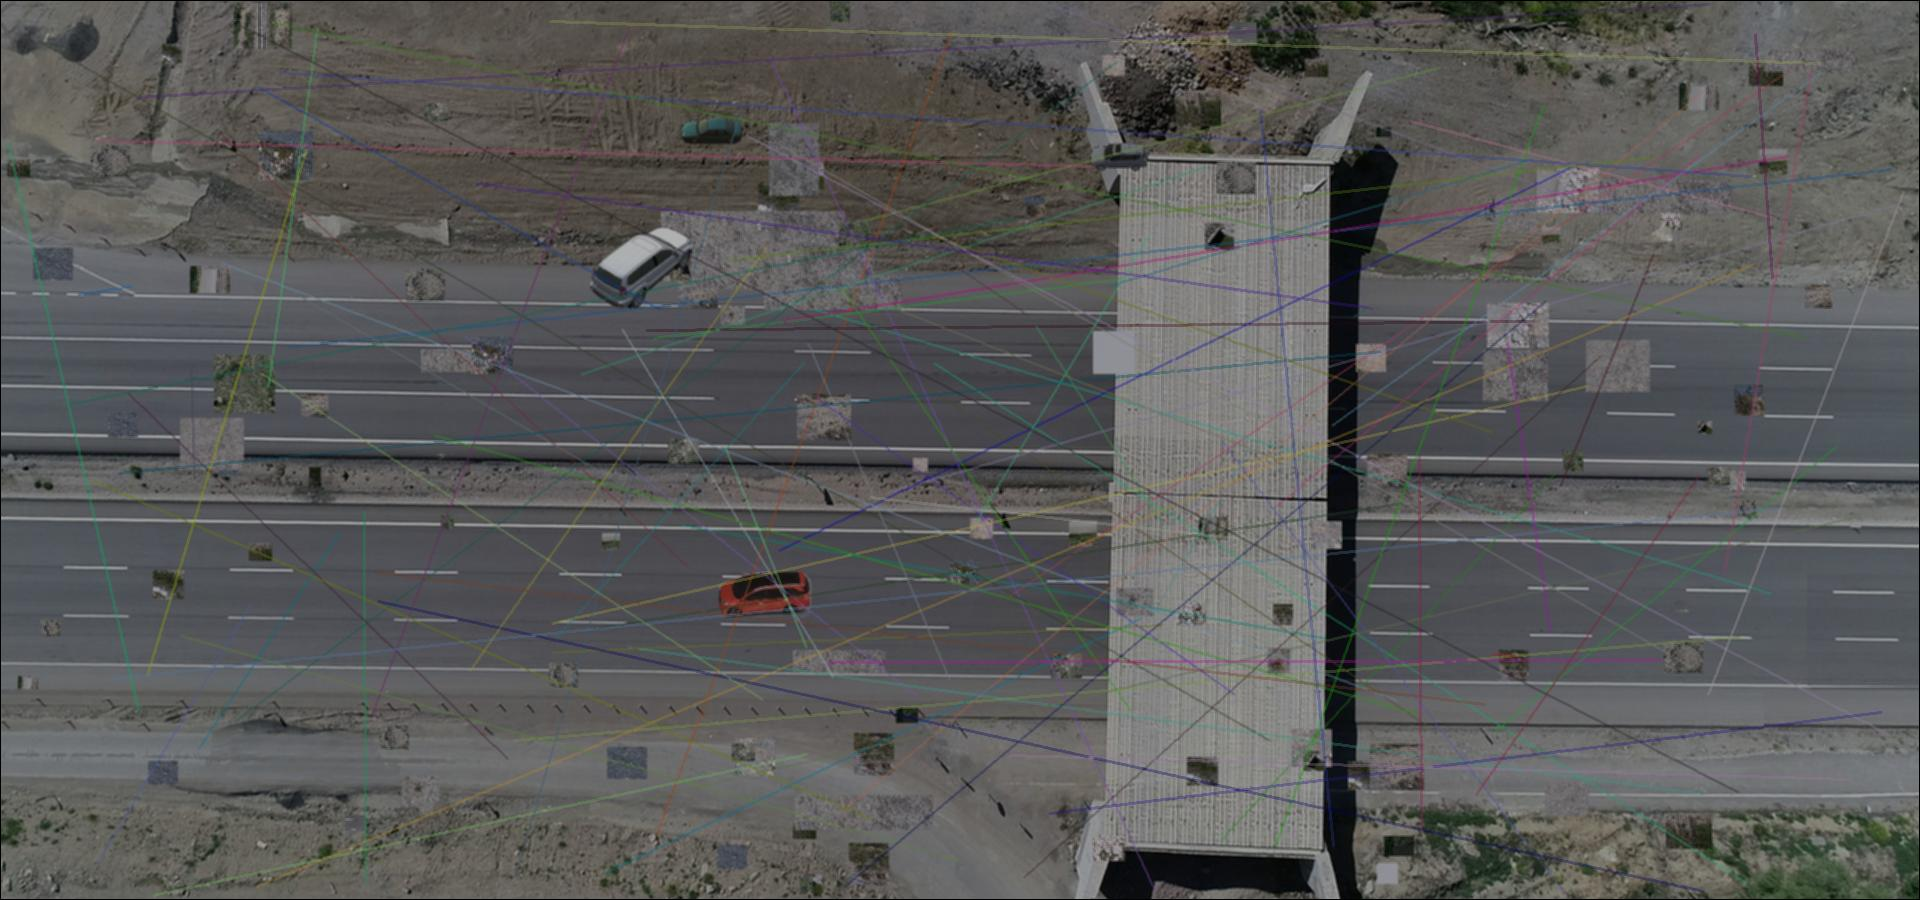arac: (588, 219, 696, 311), (719, 572, 811, 617), (1089, 142, 1152, 171), (680, 118, 743, 144)
